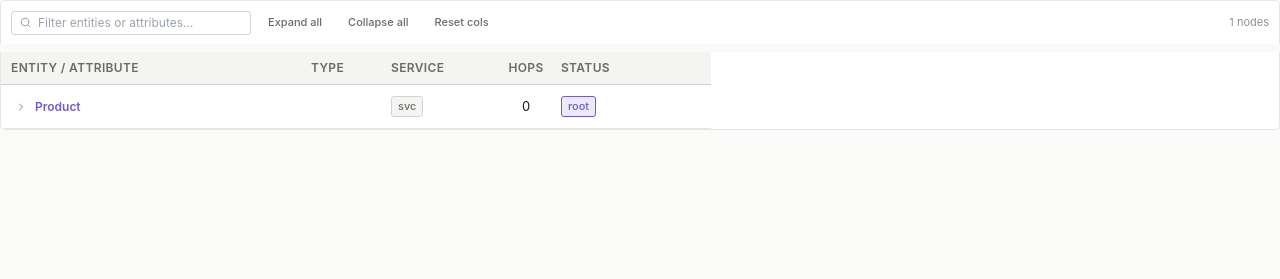
CaseTreeTable — attribute expansion › reveals attribute leaf rows when the entity is expanded
Expected: the text "sku" is not shown
Note: Click the expand chevron on the Product row.
Click the button named "Expand" at (21, 106), box [11, 96, 31, 116]
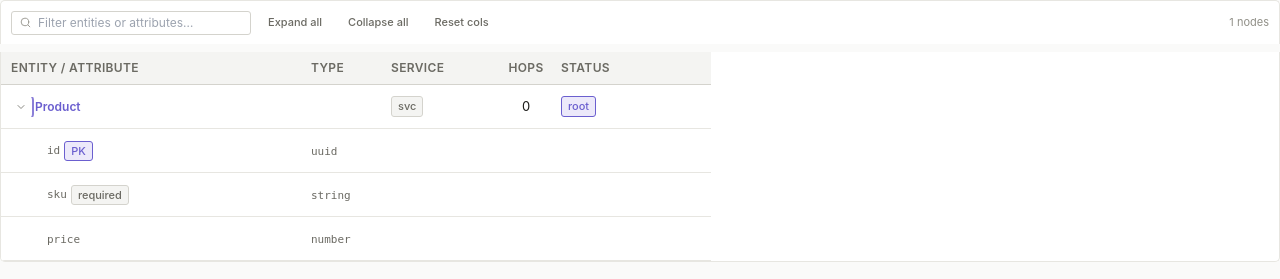
Result: the text "id" is shown at [47, 143, 60, 159]
Result: the text "sku" is shown at [47, 187, 67, 203]
Result: the text "price" is shown at [47, 232, 80, 248]
